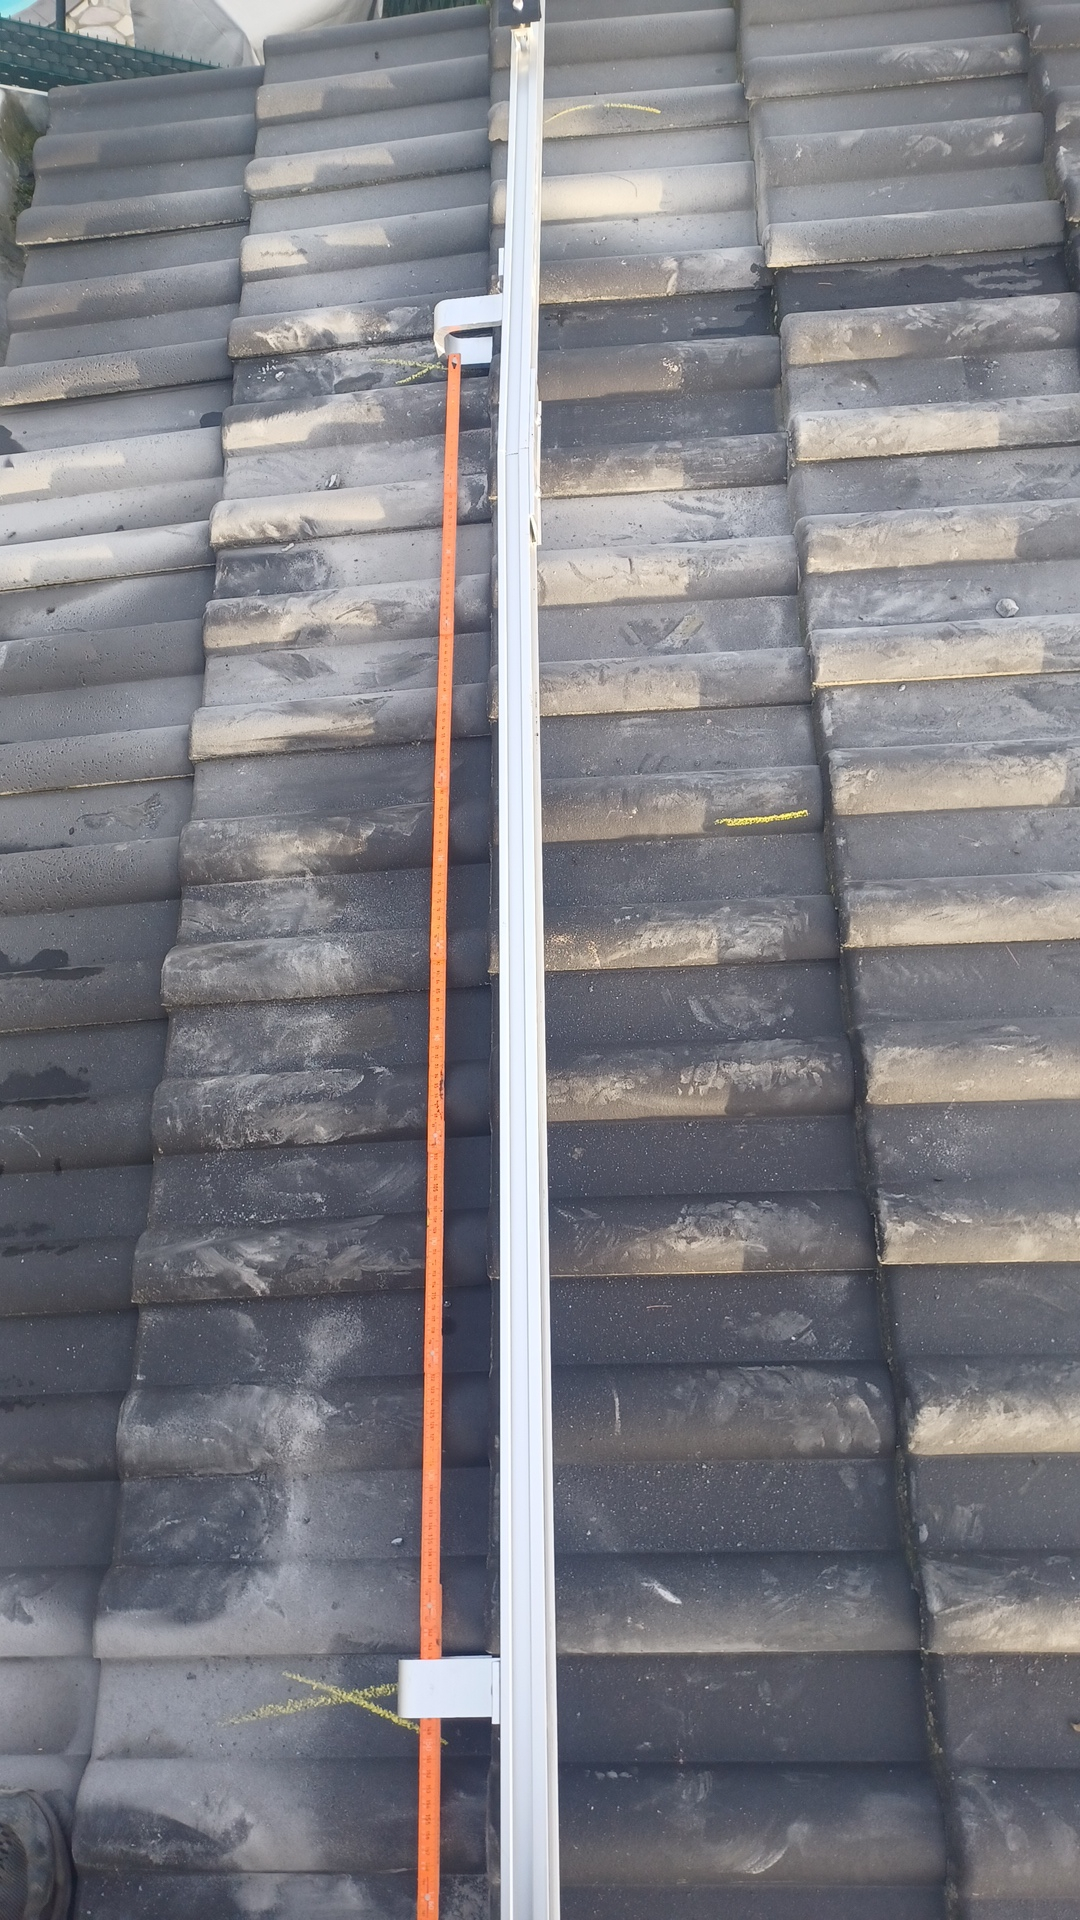hook: (434, 247, 504, 369), (398, 1655, 500, 1725)
